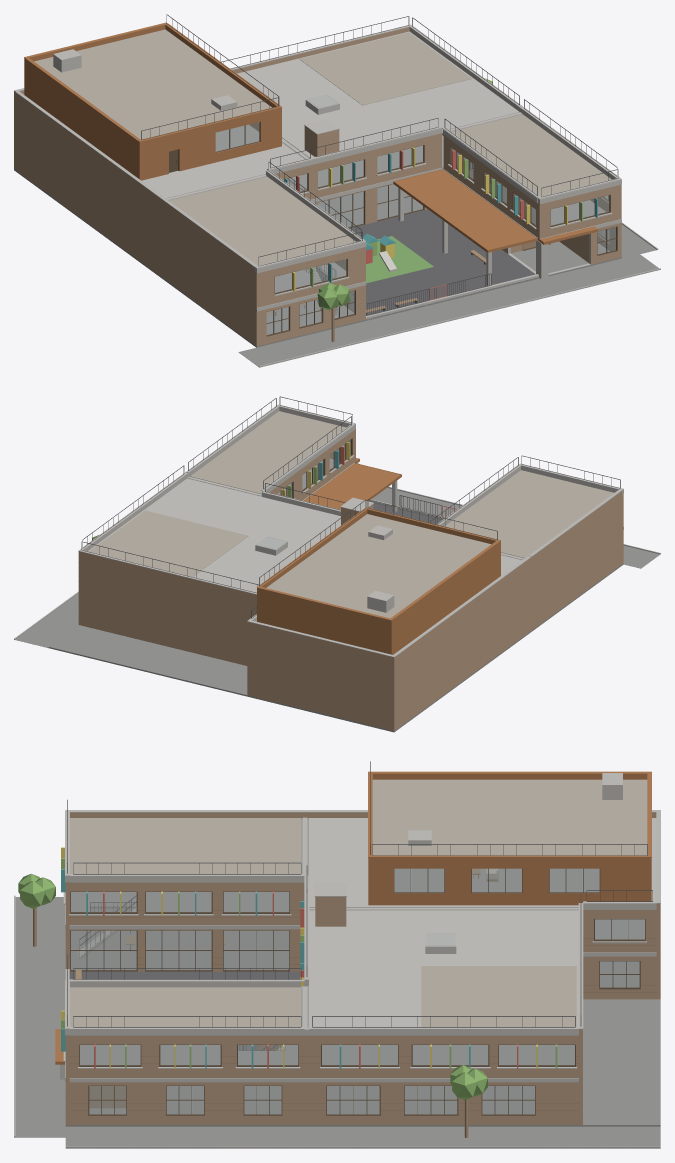
File: clay-courtyard-primary-school-clay-v005.glb
The picture shows the model from 3 angles, top to bottom: view 1: azimuth 30°, elevation 25°; view 2: azimuth 150°, elevation 25°; view 3: azimuth 270°, elevation 25°; orthographic projection. The views are drawn at different scales.
Parts seen in each view (by area): view 1: CLAY_ROOF, CLAY_WALL, CLAY_CORTEN, CLAY_MEMBRANE, CLAY_PALE, CLAY_FOUNDATION, CLAY_GLASS, CLAY_COURT, CLAY_HARDWARE, CLAY_FLOOR, CLAY_TRIM, CLAY_PLAY (+5 smaller); view 2: CLAY_WALL, CLAY_ROOF, CLAY_CORTEN, CLAY_MEMBRANE, CLAY_FOUNDATION, CLAY_PALE, CLAY_HARDWARE, CLAY_GLASS; view 3: CLAY_ROOF, CLAY_FOUNDATION, CLAY_WALL, CLAY_GLASS, CLAY_MEMBRANE, CLAY_PALE, CLAY_FLOOR, CLAY_CORTEN, CLAY_TRIM, CLAY_HARDWARE, CLAY_STONE, CLAY_COURT (+4 smaller).
Part boxes in pixels (<box>): CLAY_ROOF: <box>34,29,611,265</box>; CLAY_WALL: <box>14,27,621,346</box>; CLAY_CORTEN: <box>24,22,597,252</box>; CLAY_MEMBRANE: <box>142,31,519,198</box>; CLAY_PALE: <box>14,24,621,319</box>; CLAY_FOUNDATION: <box>14,162,658,367</box>; CLAY_GLASS: <box>215,95,615,334</box>; CLAY_COURT: <box>320,209,538,319</box>; CLAY_HARDWARE: <box>141,14,618,316</box>; CLAY_FLOOR: <box>168,114,605,292</box>; CLAY_TRIM: <box>169,122,617,336</box>; CLAY_PLAY: <box>366,236,433,283</box>; CLAY_WALL: <box>78,429,623,730</box>; CLAY_ROOF: <box>89,411,613,618</box>; CLAY_CORTEN: <box>256,457,500,654</box>; CLAY_MEMBRANE: <box>88,478,521,592</box>; CLAY_FOUNDATION: <box>15,488,660,732</box>; CLAY_PALE: <box>78,404,623,657</box>; CLAY_HARDWARE: <box>81,396,620,618</box>; CLAY_GLASS: <box>257,440,350,549</box>; CLAY_ROOF: <box>70,779,647,1026</box>; CLAY_FOUNDATION: <box>14,897,660,1148</box>; CLAY_WALL: <box>65,811,660,1124</box>; CLAY_GLASS: <box>71,868,644,1114</box>; CLAY_MEMBRANE: <box>309,818,656,1027</box>; CLAY_PALE: <box>60,773,660,1082</box>; CLAY_FLOOR: <box>71,818,644,1064</box>; CLAY_CORTEN: <box>55,771,651,1064</box>; CLAY_TRIM: <box>70,868,645,1115</box>; CLAY_HARDWARE: <box>67,761,652,1050</box>; CLAY_STONE: <box>14,895,660,1148</box>; CLAY_COURT: <box>69,971,300,1049</box>.
Bounding box in the file's own units: 46 × 12.98 × 50.03.
